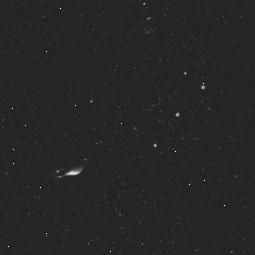debris: (41, 133, 92, 187)
